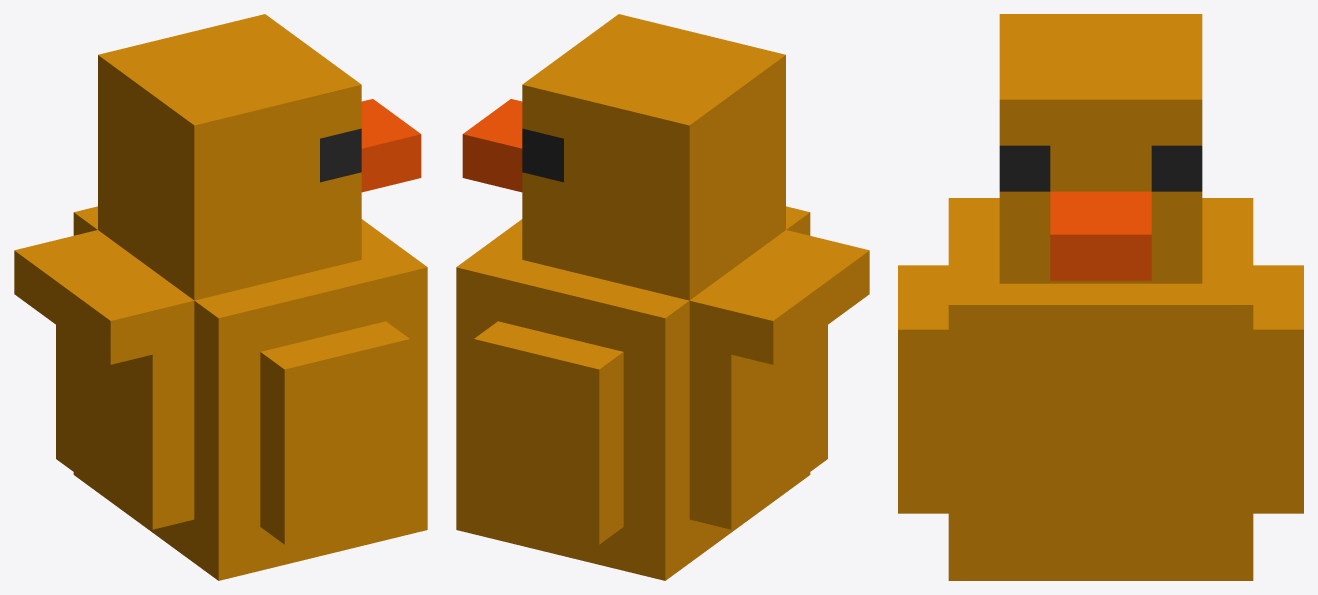
Rendered from duckmodel.fbx.
3 views of the same model, side by side, from view 1: azimuth 30°, elevation 25°; view 2: azimuth 150°, elevation 25°; view 3: azimuth 270°, elevation 25° (orthographic). The views are drawn at different scales.
Parts seen in each view (by area): view 1: Cube(Clone) (×94); view 2: Cube(Clone) (×94); view 3: Cube(Clone) (×84).
Boxes of the visible parts, x1,y1,x2,y2 form: Cube(Clone) (×94): (14,14,427,580); Cube(Clone) (×94): (456,14,869,580); Cube(Clone) (×84): (898,14,1303,580).
Size of the model in its own units: 8 by 10 by 8.
